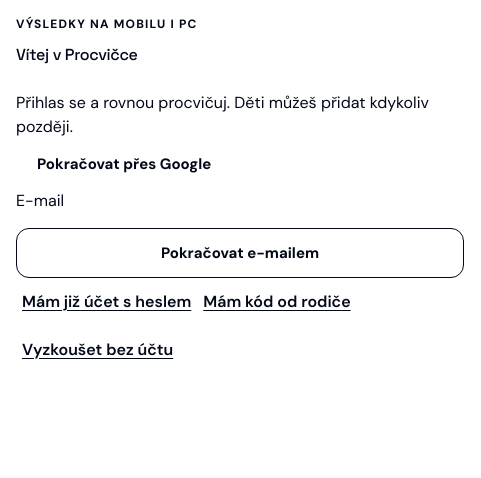
it: offers Google and passwordless email without inactive providers or role selection
Type "test@example.com" into the field labelled "E-mail" at (158, 201), box [64,189,252,213]
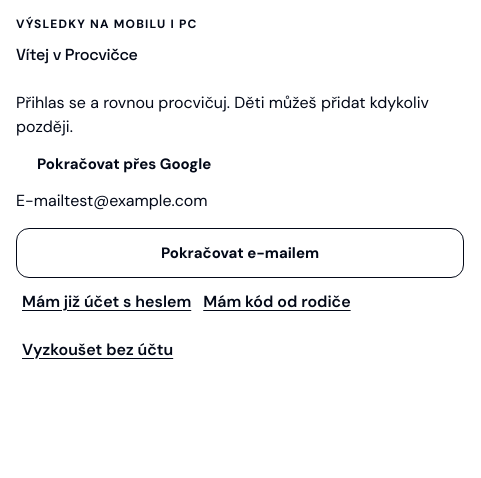
Click the button "Pokračovat e-mailem" at (240, 253), box [16,228,464,278]
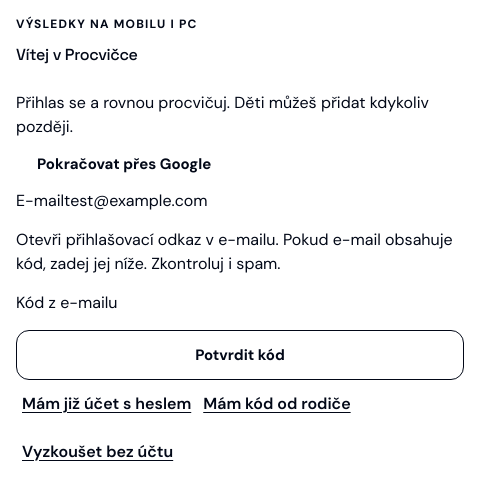
Now the field labelled "Kód z e-mailu" is shown, box [118,291,306,315]
